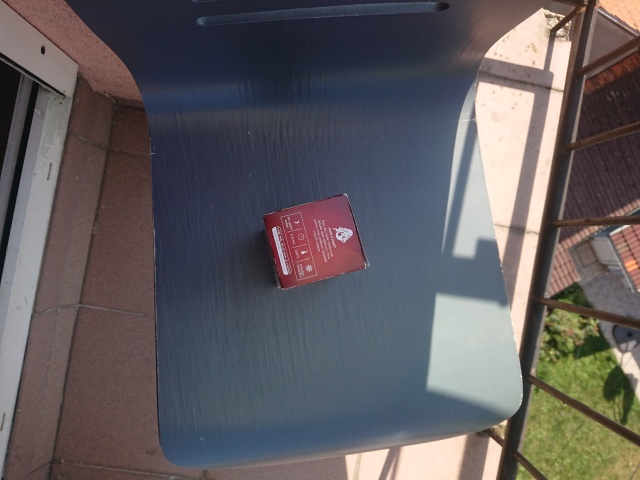Franck Apple Cinnamon Tea 60g: (260, 190, 371, 291)
